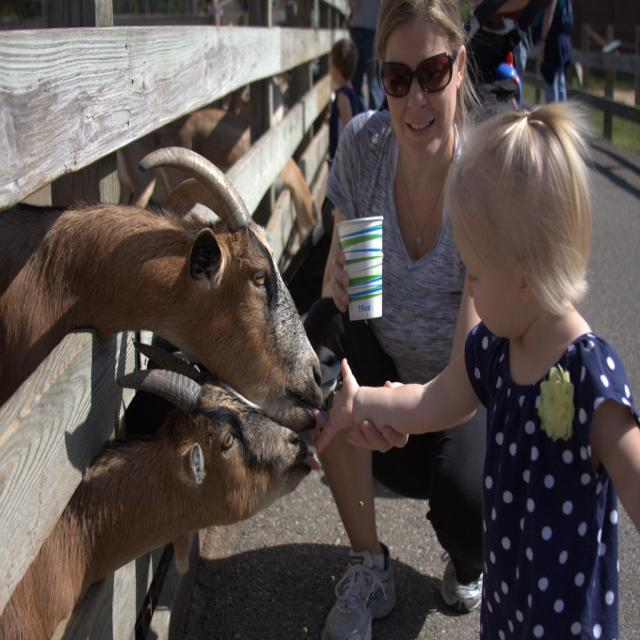Goat: (0, 335, 321, 638), (0, 144, 326, 433)
